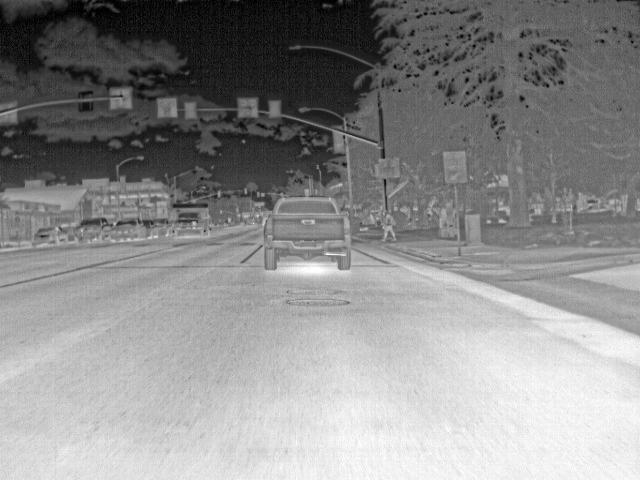car: (261, 196, 352, 270), (72, 218, 113, 246), (114, 217, 152, 243), (31, 227, 70, 245), (154, 219, 172, 238), (142, 220, 159, 237)
person: (382, 212, 396, 244)
